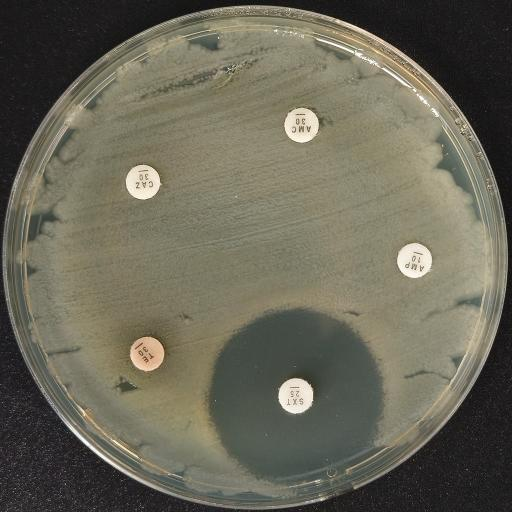disc: (278, 378, 314, 415), (125, 164, 161, 200), (396, 243, 432, 279), (284, 108, 319, 144), (130, 336, 164, 372)
